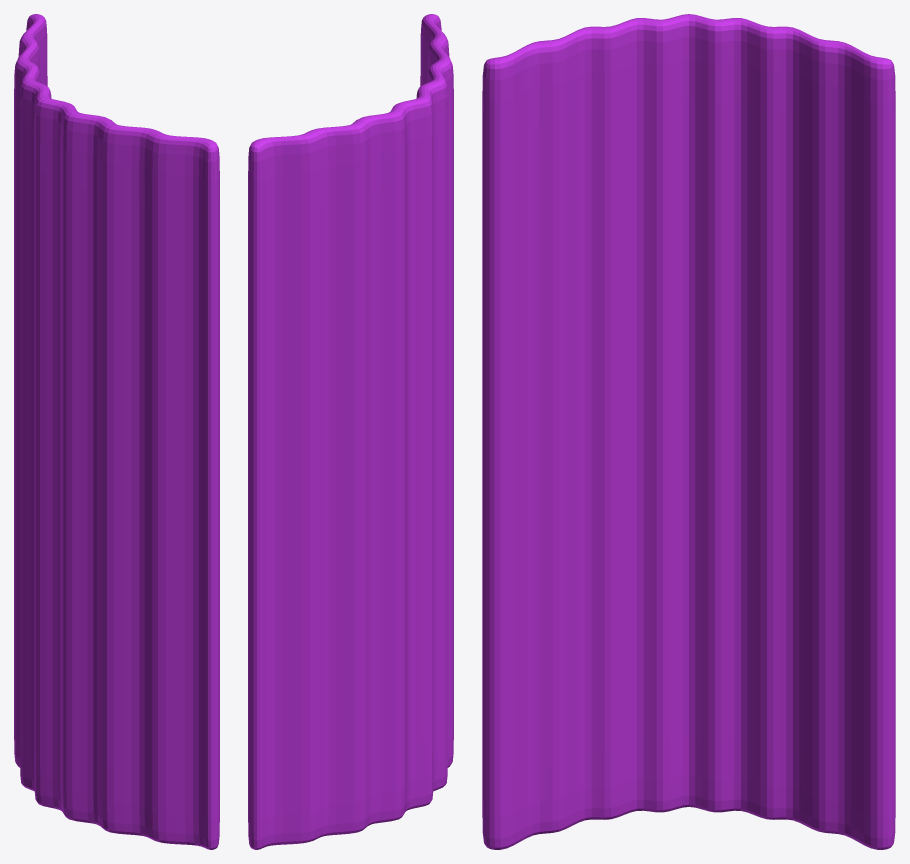
Rendered from UMUM_FOXY_PLACE_TIRAI.fbx.
3 views of the same model, side by side, from view 1: azimuth 30°, elevation 25°; view 2: azimuth 150°, elevation 25°; view 3: azimuth 270°, elevation 25° (orthographic). The views are drawn at different scales.
Visible parts, largest first — view 1: Cube.021; view 2: Cube.021; view 3: Cube.021.
Part boxes in pixels (left/top/right/bottom): Cube.021: left=14, top=14, right=219, bottom=849; Cube.021: left=248, top=14, right=453, bottom=849; Cube.021: left=482, top=14, right=895, bottom=849.
Size of the model in its own units: 90.51 by 636 by 301.
